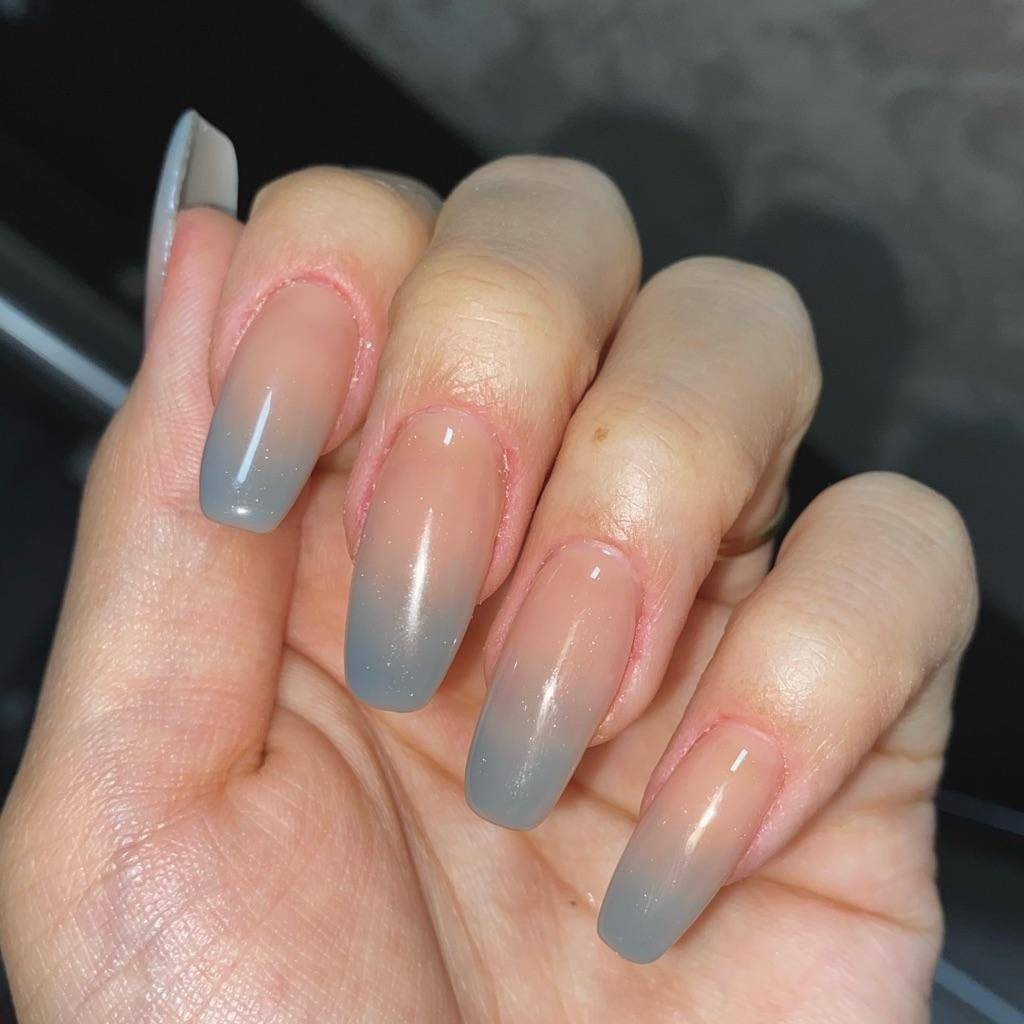nail: (463, 536, 641, 831), (342, 403, 507, 712), (596, 717, 785, 964), (197, 273, 362, 533), (142, 106, 239, 351)
